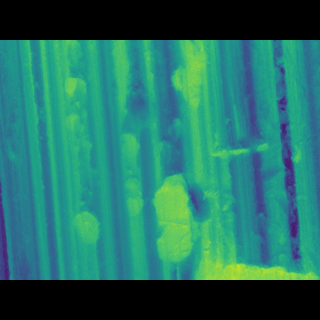Loch: (147, 167, 204, 239), (203, 221, 320, 252), (115, 138, 147, 202), (167, 76, 211, 121), (68, 196, 101, 224), (63, 97, 88, 114)
